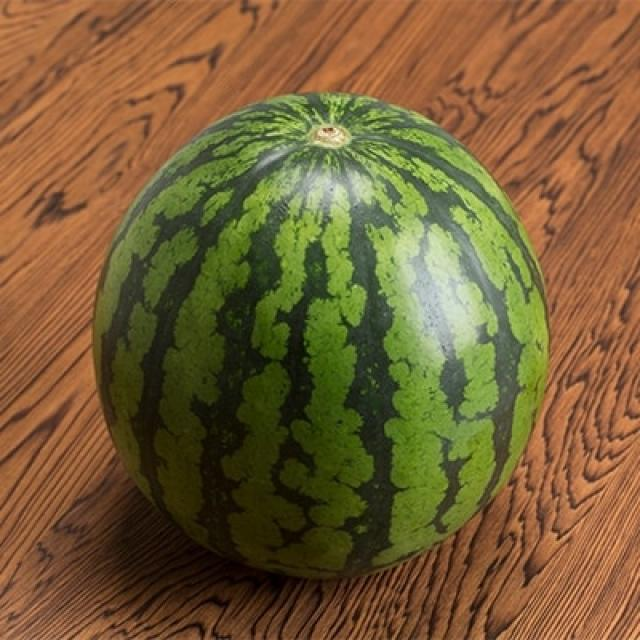watermelon: (90, 93, 552, 584)
